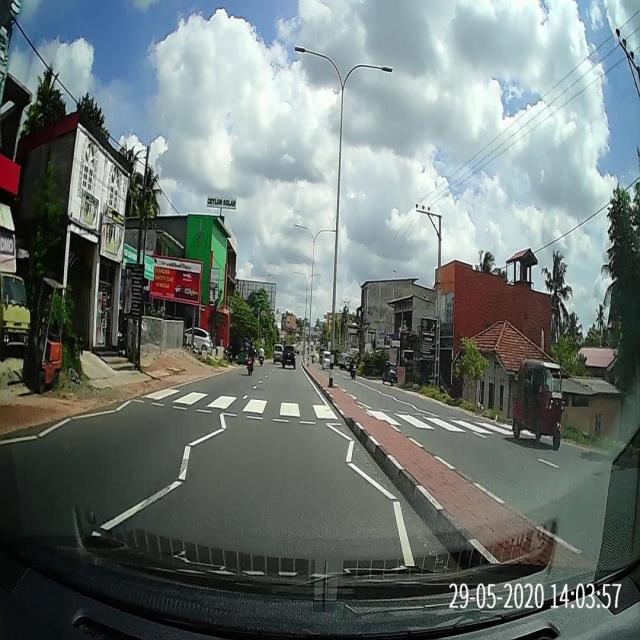Crosswalk: (125, 381, 535, 441)
